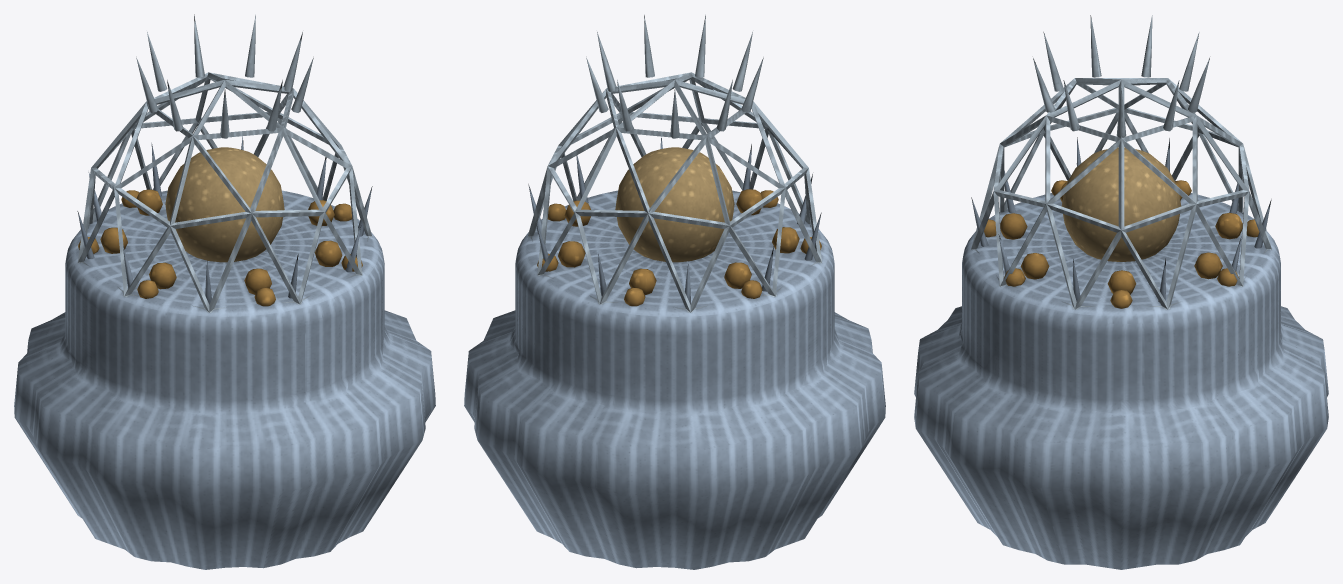
File: landmark_great_shell.glb
3 renders of one model, left to right at view 1: azimuth 30°, elevation 25°; view 2: azimuth 150°, elevation 25°; view 3: azimuth 270°, elevation 25°, orthographic.
Visible parts, largest first — view 1: LandmarkGreatShell, Growth_Beads, Growth_Needles; view 2: LandmarkGreatShell, Growth_Beads, Growth_Needles; view 3: LandmarkGreatShell, Growth_Beads, Growth_Needles.
Boxes of the visible parts, box(x1,y1,x2,y2) form: LandmarkGreatShell: box(14, 14, 435, 569); Growth_Beads: box(78, 189, 362, 306); Growth_Needles: box(77, 136, 372, 304); LandmarkGreatShell: box(464, 14, 885, 569); Growth_Beads: box(537, 189, 821, 306); Growth_Needles: box(528, 137, 821, 304); LandmarkGreatShell: box(914, 15, 1328, 569); Growth_Beads: box(984, 180, 1259, 308); Growth_Needles: box(971, 137, 1271, 302).
Bounding box in the file's own units: 5.36 × 6.52 × 5.2.
4 materials, 4 textured.
